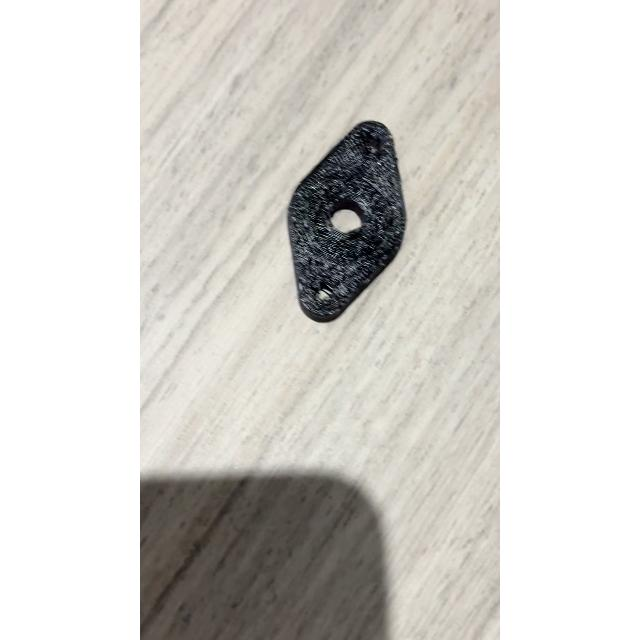Pieza_2: (259, 100, 431, 338)
